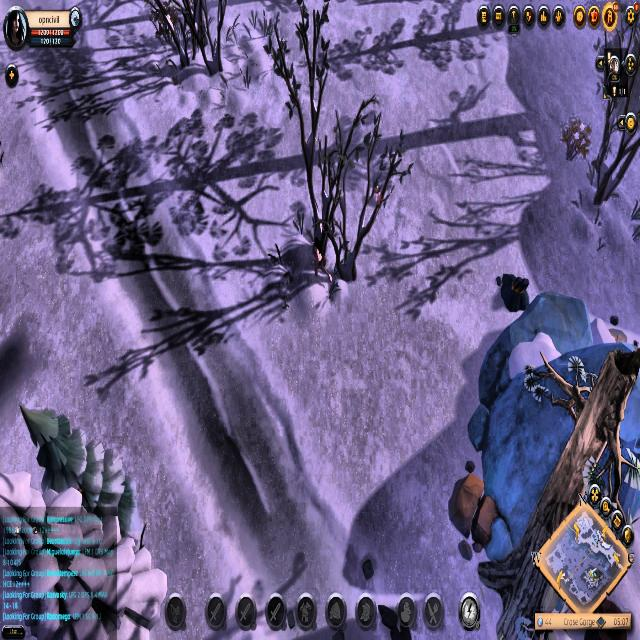copper_ore: (498, 262, 532, 321)
cotton: (559, 114, 592, 165)
limestone: (449, 469, 499, 559)
